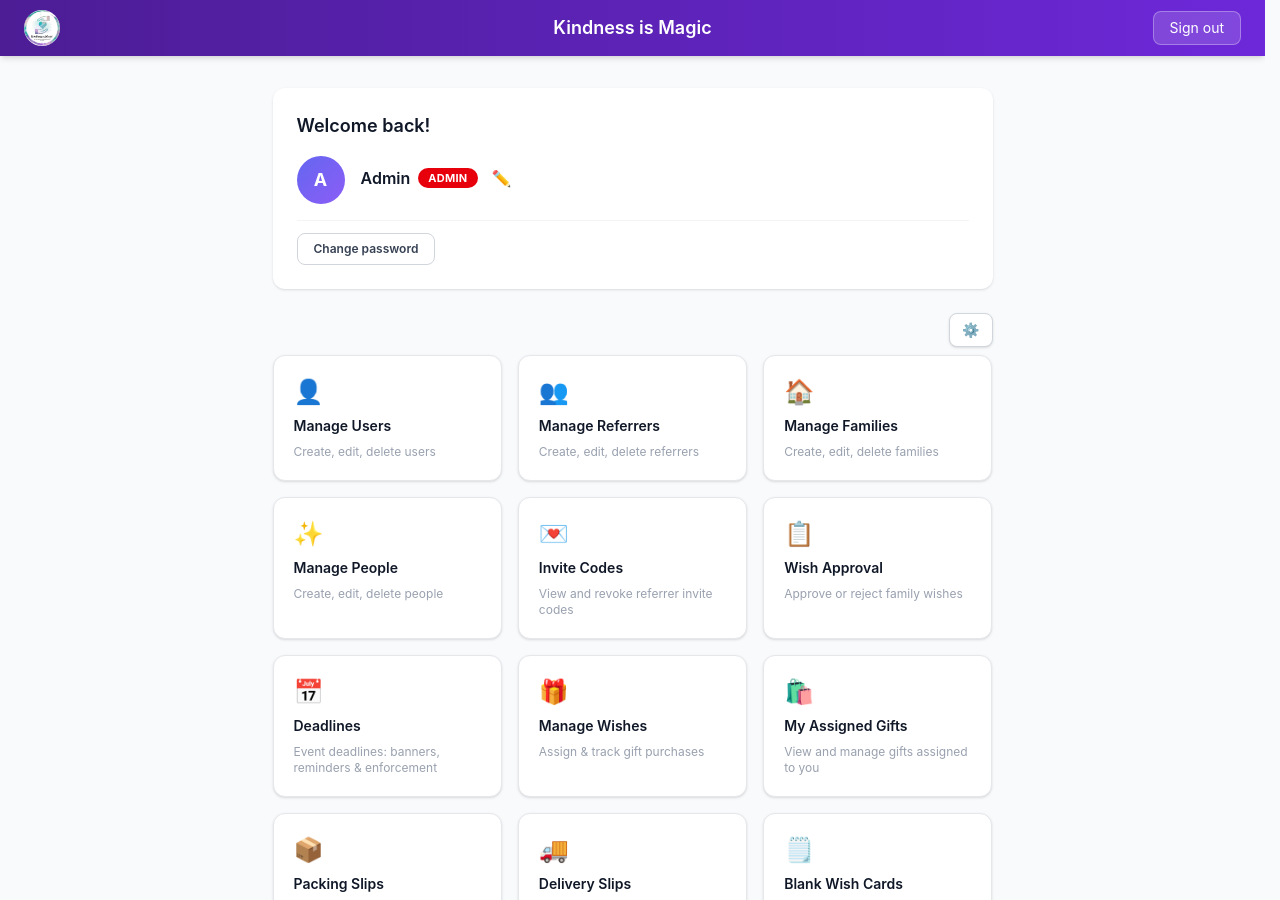
Dashboard — admin tiles › enables the default-hidden CSV Import tile and persists the choice
Click the button named "Toggle dashboard tiles" at (971, 330), box [949,313,992,347]
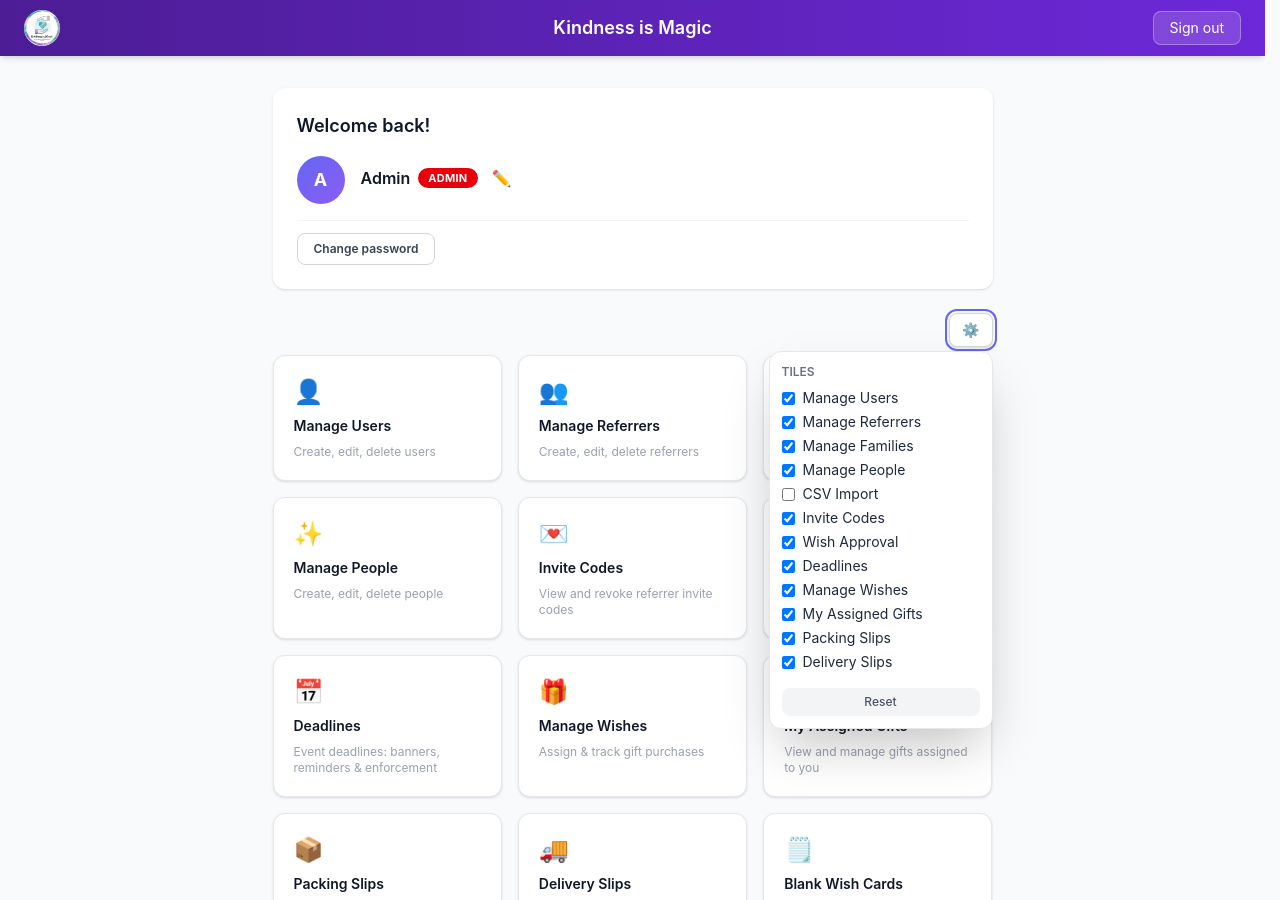
Click the checkbox labelled "CSV Import" at (788, 494), box [782,488,794,500]
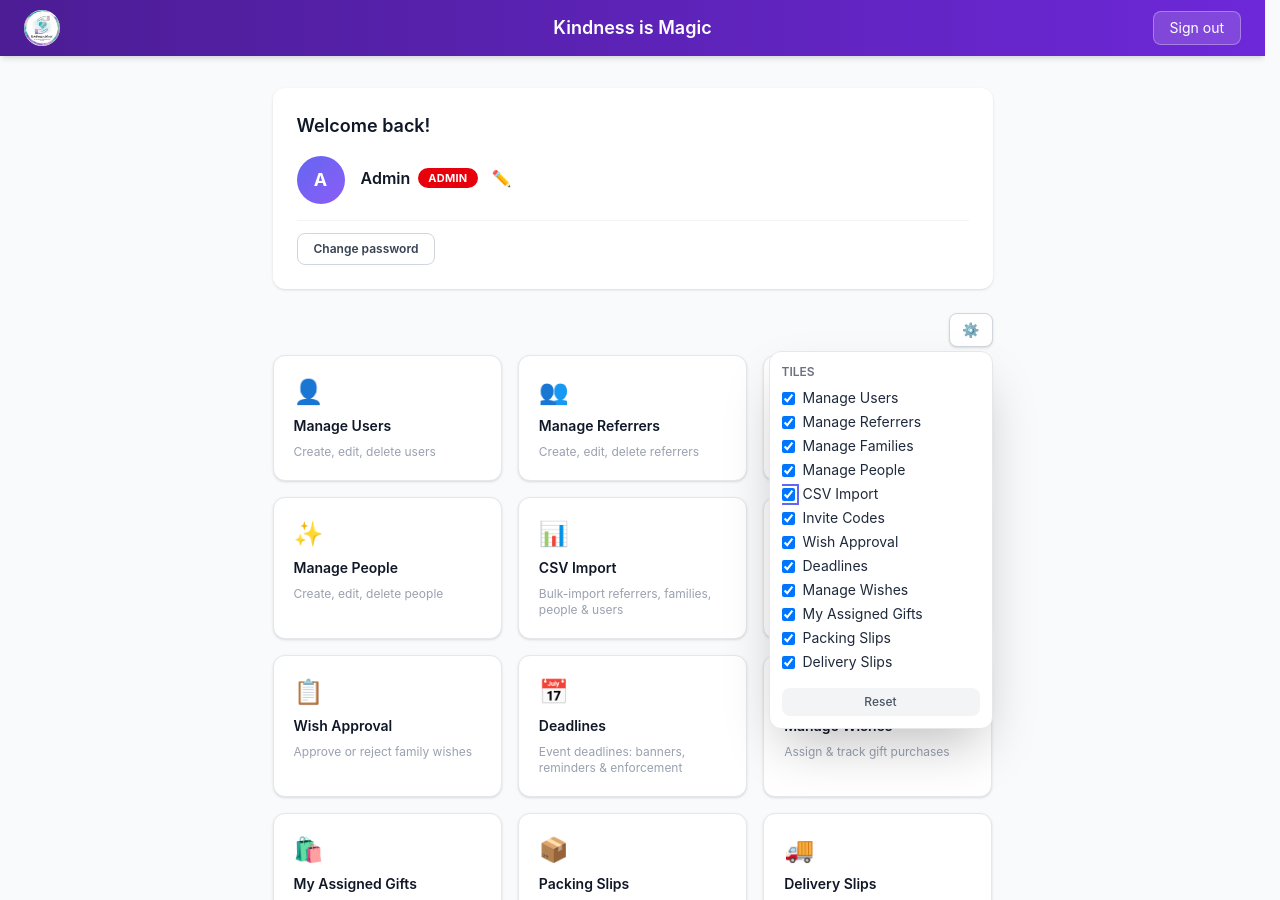
Now the link "📊 CSV Import Bulk-import referrers, families, people & users" is shown, box [518,497,747,639]
